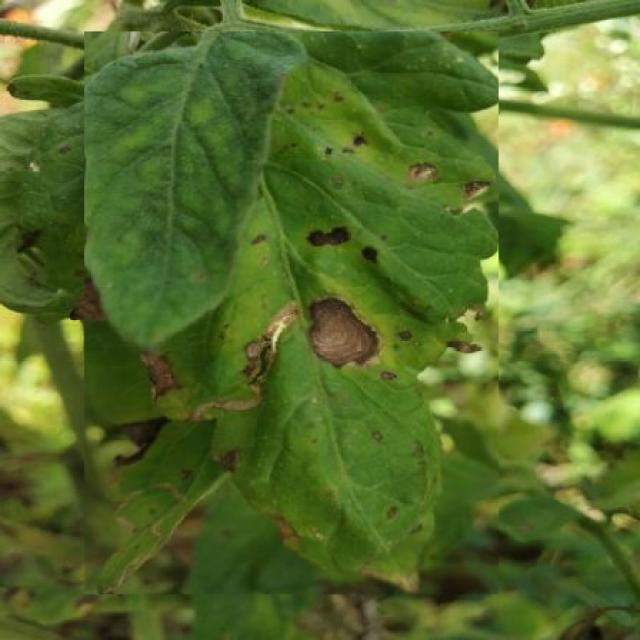Early Blight: (85, 32, 499, 594)
